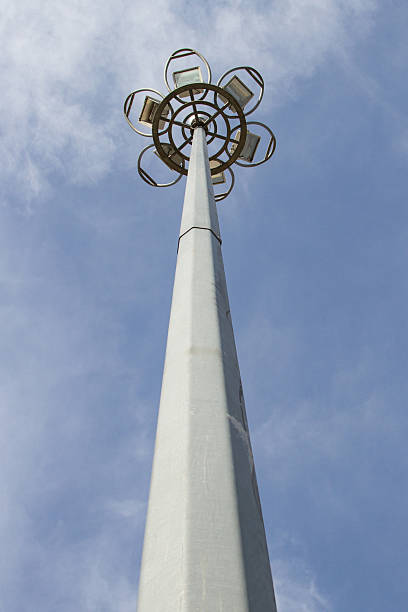light_pole: (138, 134, 280, 612)
